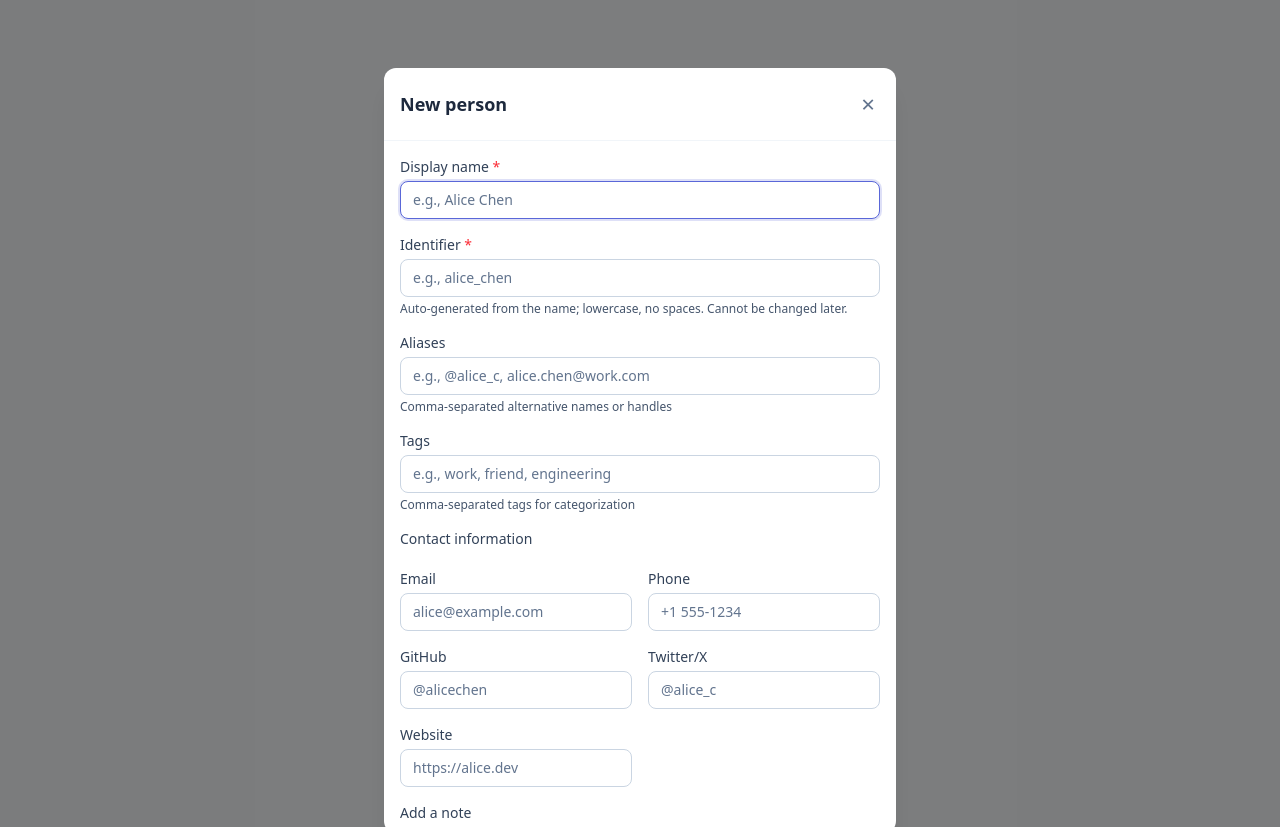
Test case: PersonFormModal identifier auto-generation (create) › auto-generates a slug identifier from the display name
Type "Bob Smith" into the field labelled "Display name *" at (640, 200), box x1=400 y1=180 x2=880 y2=218
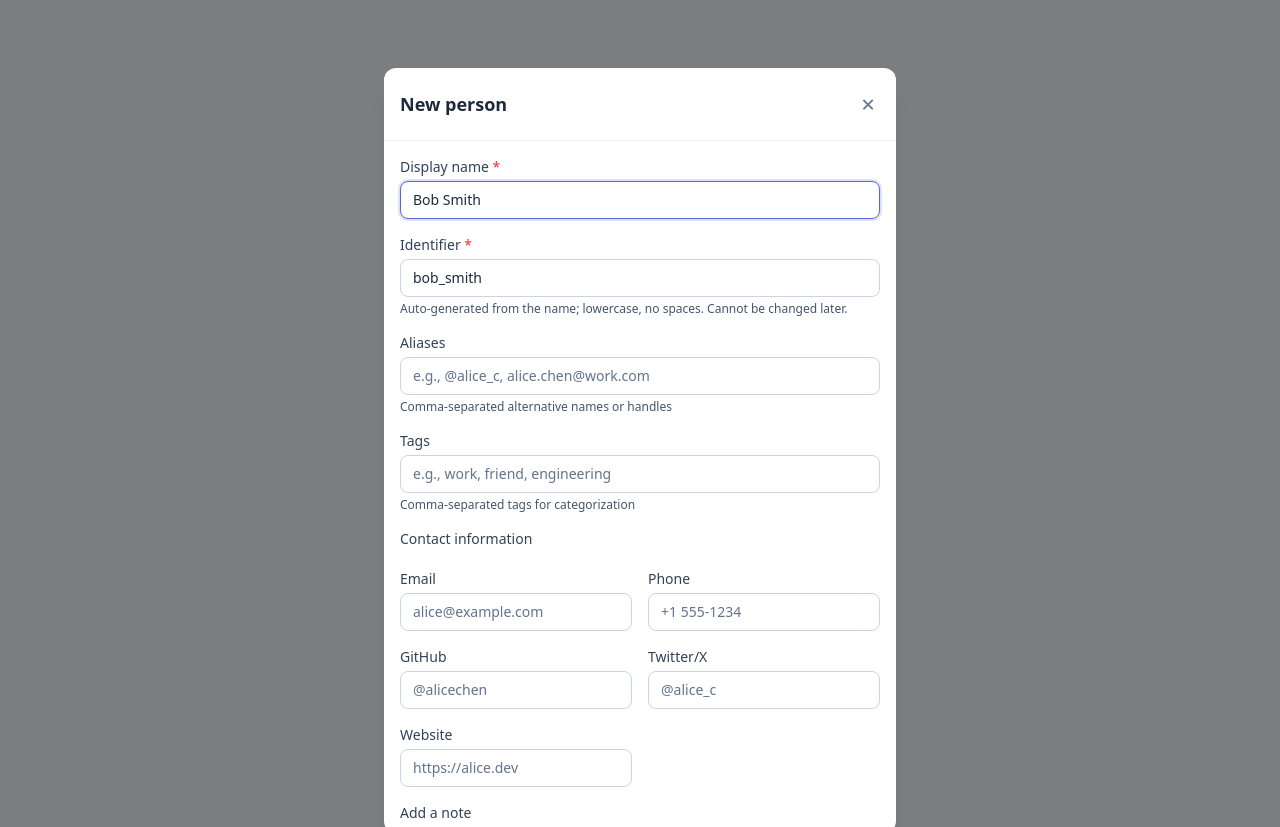
Now the field labelled "Identifier *" holds "bob_smith", box x1=400 y1=258 x2=880 y2=296
